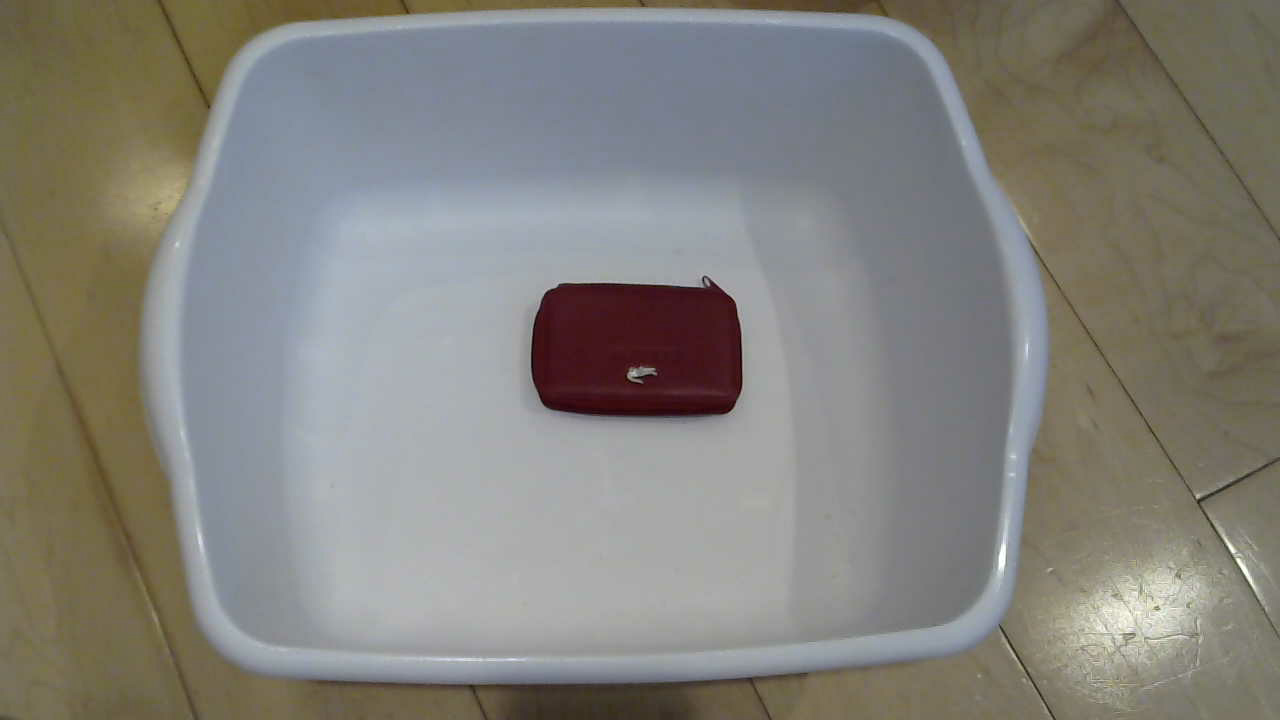wallet: (510, 275, 767, 441)
